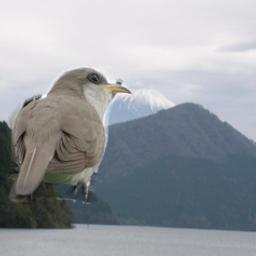Cuckoo: (6, 66, 132, 204)
